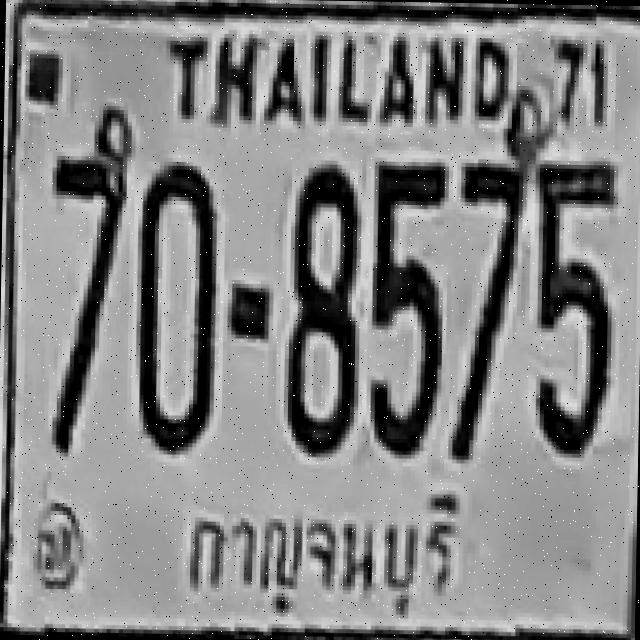0: (366, 264, 438, 453), (291, 159, 360, 309)
1: (450, 287, 502, 459)
7: (458, 158, 528, 324)
Kanchanaburi: (155, 476, 485, 627)
